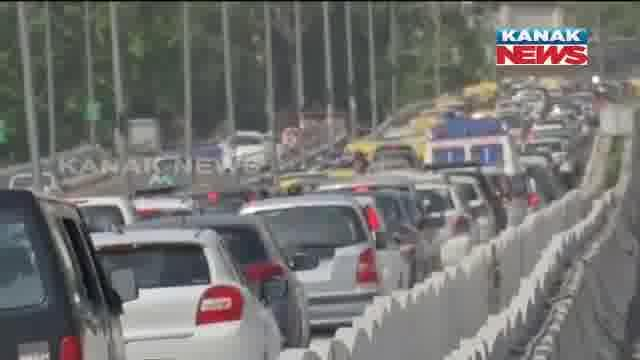AMBULANCE: (419, 119, 517, 160)
